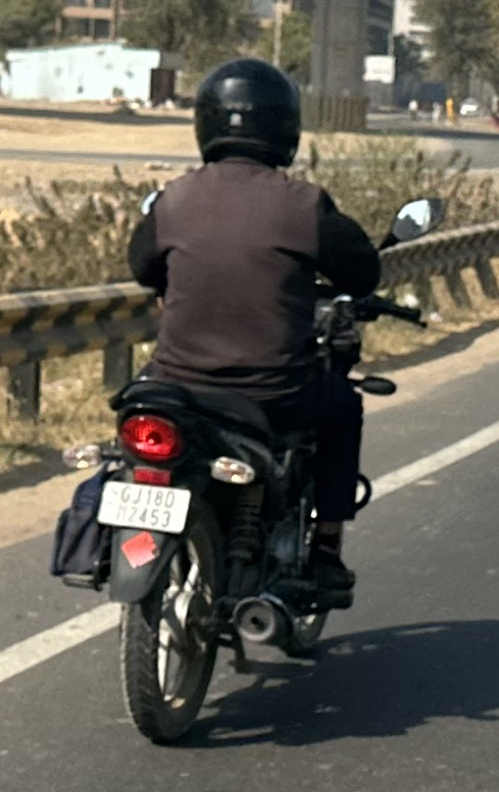BikeWithRider: (38, 48, 451, 751)
Helmet: (180, 48, 314, 176)
